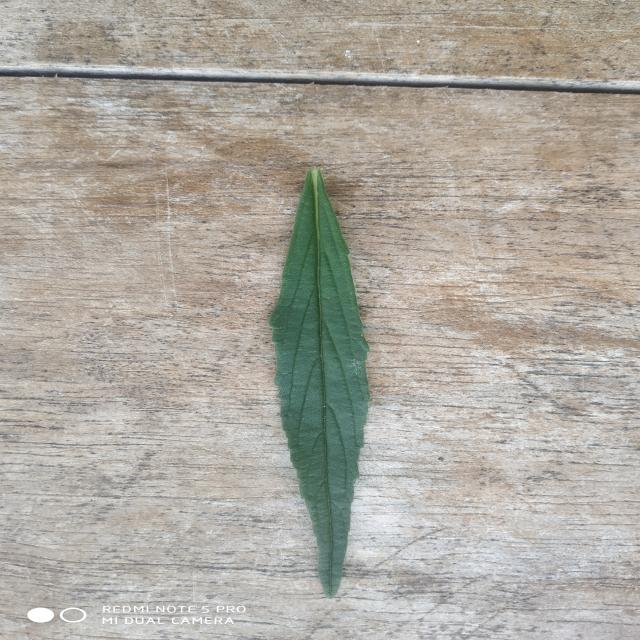thambe: (269, 168, 369, 598)
